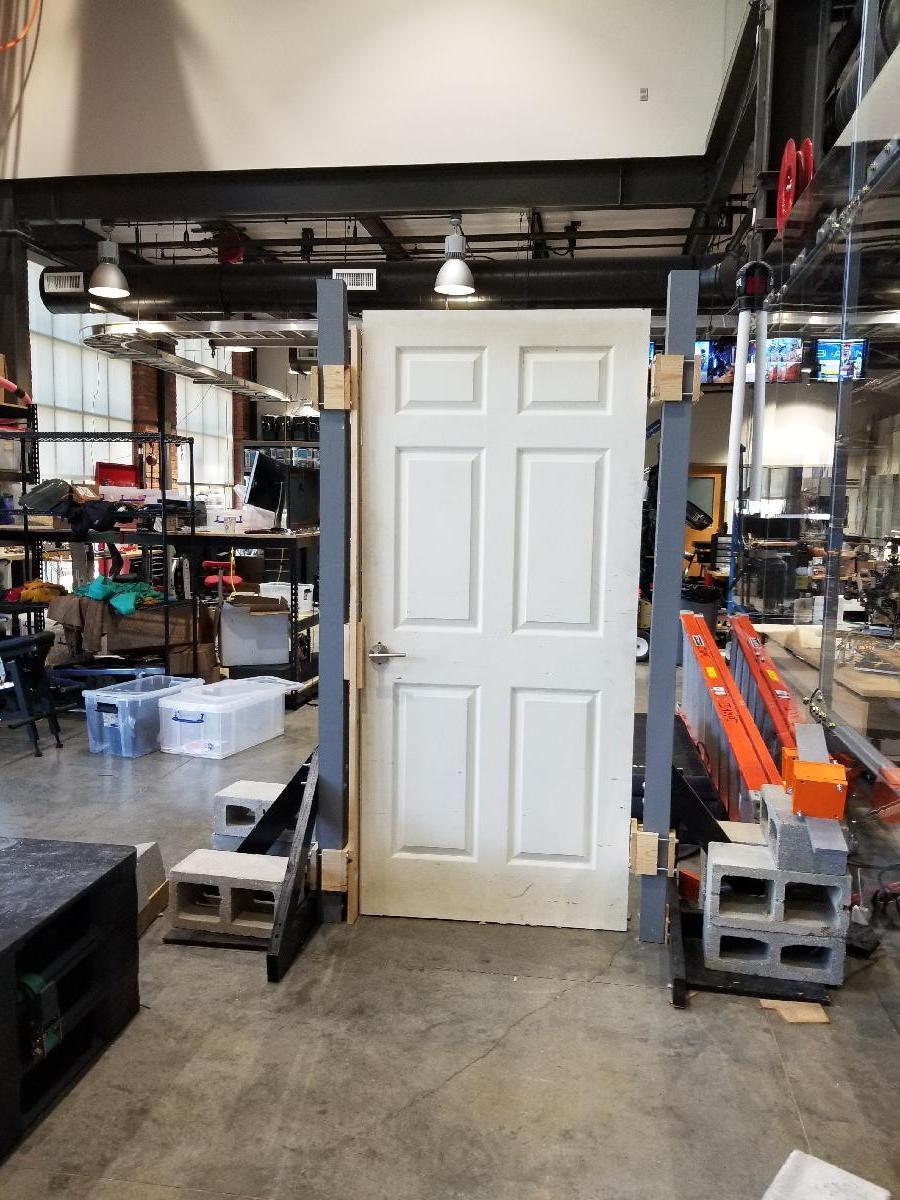door: (356, 305, 650, 924)
handle: (364, 638, 410, 677)
